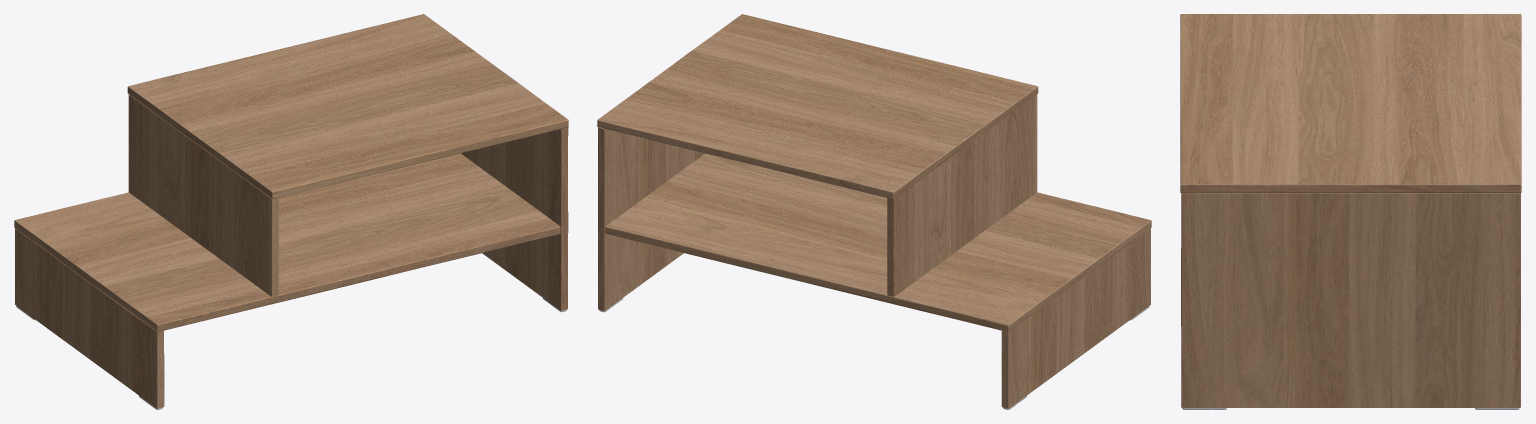
Rendered from LB-LR-COFFEE-02.glb.
The picture shows the model from 3 angles, left to right: view 1: azimuth 30°, elevation 25°; view 2: azimuth 150°, elevation 25°; view 3: azimuth 270°, elevation 25°; orthographic projection. The views are drawn at different scales.
Visible parts, largest first — view 1: model; view 2: model; view 3: model.
Boxes of the visible parts, <box> form: model: <box>14,14,568,409</box>; model: <box>597,14,1151,409</box>; model: <box>1180,14,1521,409</box>.
Size of the model in its own units: 0.9 by 0.4019 by 0.55.
1 material, 1 textured.
